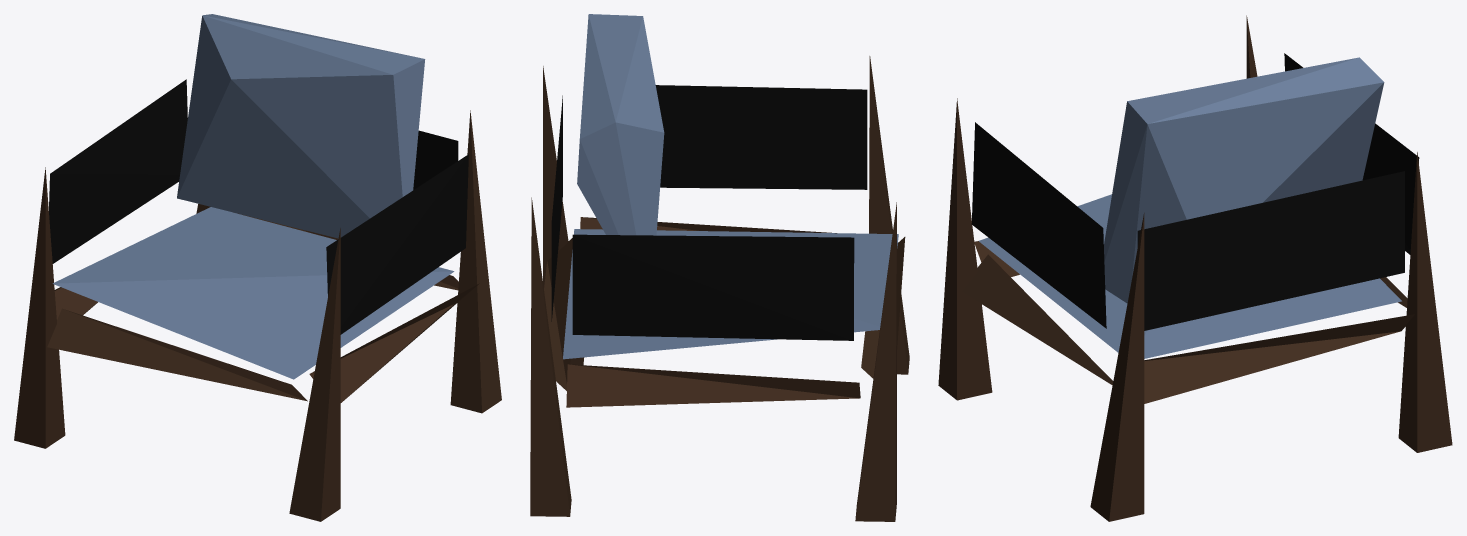
The model's file is bay-lounge-chair.lod2.glb.
3 renders of one model, left to right at view 1: azimuth 30°, elevation 25°; view 2: azimuth 150°, elevation 25°; view 3: azimuth 270°, elevation 25°, orthographic. The views are drawn at different scales.
Parts seen in each view (by area): view 1: LoungeChair_LeatherWeave_0; view 2: LoungeChair_LeatherWeave_0; view 3: LoungeChair_LeatherWeave_0.
Boxes of the visible parts, x1,y1,x2,y2 form: LoungeChair_LeatherWeave_0: (14, 14, 501, 521); LoungeChair_LeatherWeave_0: (530, 14, 909, 521); LoungeChair_LeatherWeave_0: (938, 15, 1452, 521).
Bounding box in the file's own units: 1.03 × 0.8312 × 1.05.
